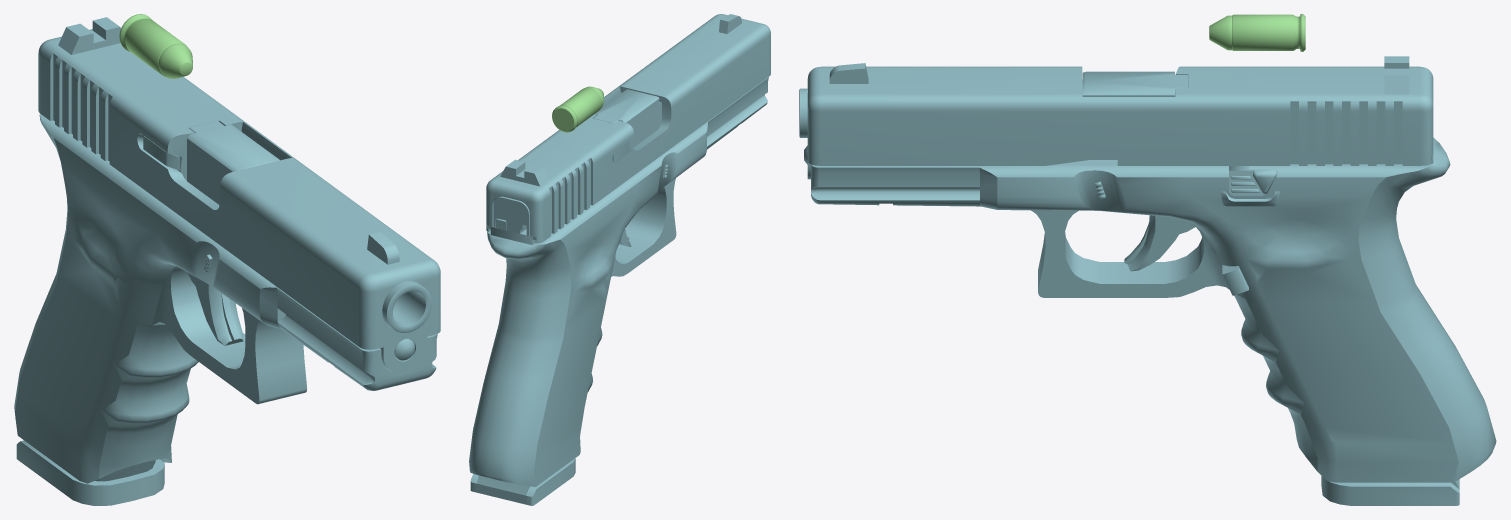
Rendered from WPN_Eder22.FBX.
3 renders of one model, left to right at view 1: azimuth 30°, elevation 25°; view 2: azimuth 150°, elevation 25°; view 3: azimuth 270°, elevation 25°, orthographic. The views are drawn at different scales.
Parts seen in each view (by area): view 1: WPN_Eder22, WPN_Eder22_slide, WPN_Eder22_barrel, WPN_Eder22_magazine, cal_40, WPN_Eder22_trigger; view 2: WPN_Eder22, WPN_Eder22_slide, WPN_Eder22_barrel, WPN_Eder22_magazine, cal_40; view 3: WPN_Eder22, WPN_Eder22_slide, cal_40, WPN_Eder22_magazine, WPN_Eder22_barrel, WPN_Eder22_trigger.
Boxes of the visible parts, x1,y1,x2,y2 form: WPN_Eder22: [14, 113, 437, 483]; WPN_Eder22_slide: [38, 17, 440, 373]; WPN_Eder22_barrel: [187, 121, 431, 332]; WPN_Eder22_magazine: [16, 440, 164, 505]; cal_40: [119, 14, 192, 78]; WPN_Eder22_trigger: [187, 272, 243, 345]; WPN_Eder22: [469, 77, 768, 486]; WPN_Eder22_slide: [486, 14, 770, 243]; WPN_Eder22_barrel: [593, 89, 661, 149]; WPN_Eder22_magazine: [470, 458, 575, 505]; cal_40: [552, 86, 603, 132]; WPN_Eder22: [804, 137, 1496, 482]; WPN_Eder22_slide: [807, 56, 1433, 179]; cal_40: [1209, 14, 1305, 51]; WPN_Eder22_magazine: [1321, 476, 1459, 505]; WPN_Eder22_barrel: [799, 71, 1187, 137]; WPN_Eder22_trigger: [1124, 215, 1195, 271].
Bounding box in the file's own units: 3.39 × 15.12 × 20.45.
